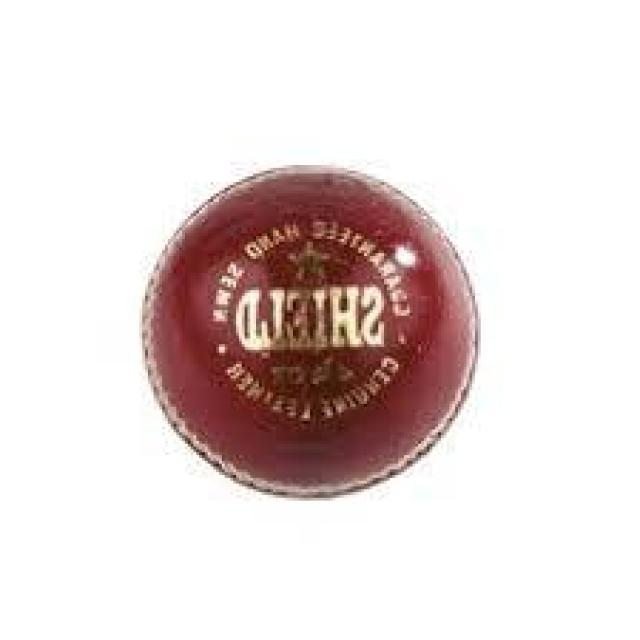ball: (139, 168, 481, 498)
